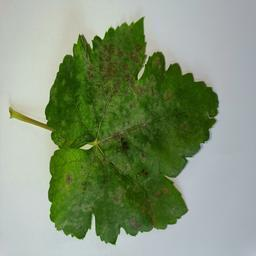Powdery-Mildew: (115, 77, 154, 141), (91, 42, 132, 86), (109, 188, 145, 228), (107, 153, 146, 177), (75, 183, 103, 213), (90, 92, 117, 123), (60, 172, 75, 196), (166, 90, 178, 103)
